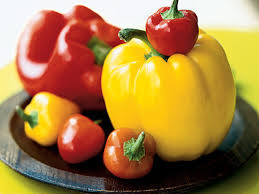bell pepper: (91, 29, 233, 152), (12, 3, 111, 106), (89, 122, 166, 176), (17, 90, 72, 142), (139, 3, 197, 49), (55, 115, 105, 166)
